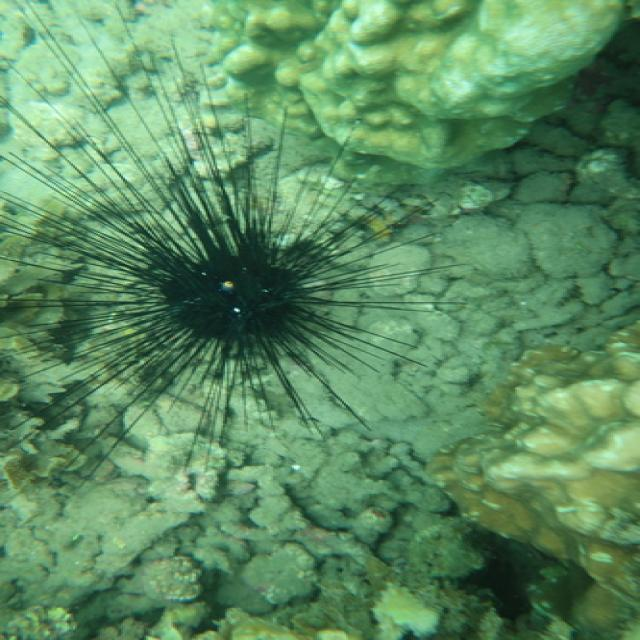Urchin: (2, 5, 469, 478)
